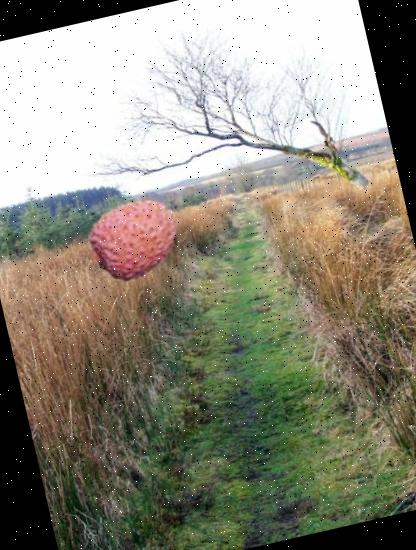Lychee: (82, 184, 190, 292)
